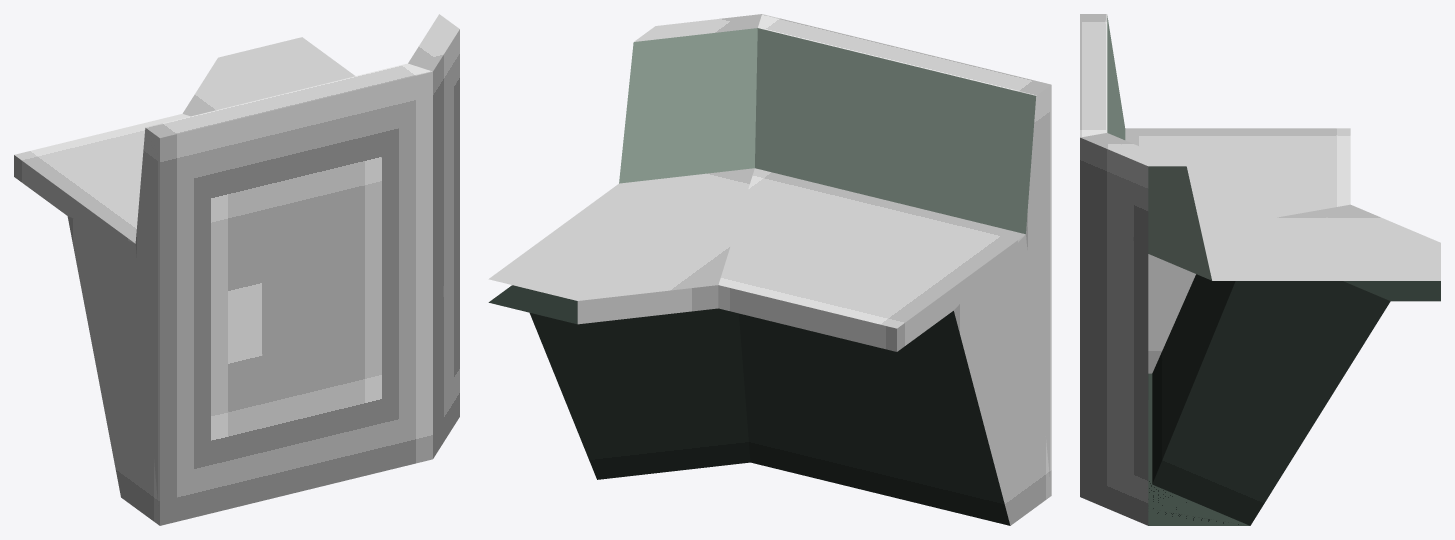
Rendered from desk_corner_inside_origin.obj.
3 renders of one model, left to right at view 1: azimuth 30°, elevation 25°; view 2: azimuth 150°, elevation 25°; view 3: azimuth 270°, elevation 25°, orthographic. The views are drawn at different scales.
Bounding box in the file's own units: 1 × 1.1 × 1.
